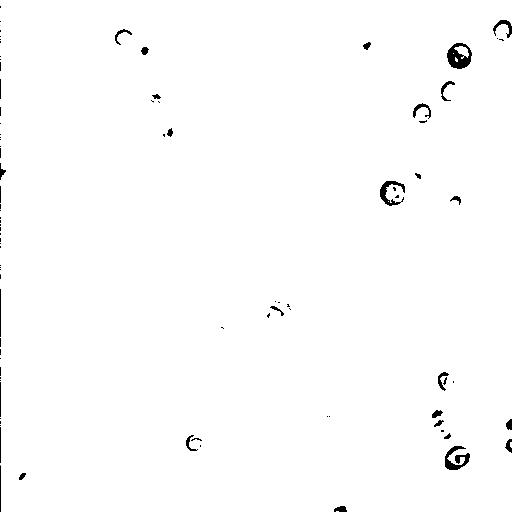micro-algae: (373, 36, 446, 111), (430, 446, 507, 512), (142, 0, 233, 49), (16, 227, 77, 291), (425, 43, 479, 97), (370, 9, 409, 52), (11, 455, 44, 495), (148, 139, 185, 171), (1, 67, 27, 108), (310, 236, 343, 267), (158, 116, 187, 146), (117, 334, 146, 363), (131, 33, 158, 62), (445, 43, 474, 70), (379, 179, 406, 207), (207, 420, 236, 446), (493, 401, 511, 441), (442, 446, 470, 471), (354, 29, 379, 57), (345, 76, 369, 104), (429, 420, 455, 445), (404, 162, 430, 187), (1, 154, 18, 187), (90, 266, 114, 289), (263, 301, 289, 322), (55, 274, 76, 297), (413, 102, 433, 126), (492, 17, 511, 41), (436, 371, 457, 391), (441, 81, 460, 102), (428, 407, 447, 427), (114, 28, 133, 45), (446, 194, 462, 211), (187, 435, 203, 451), (329, 502, 351, 512), (503, 437, 511, 453)
